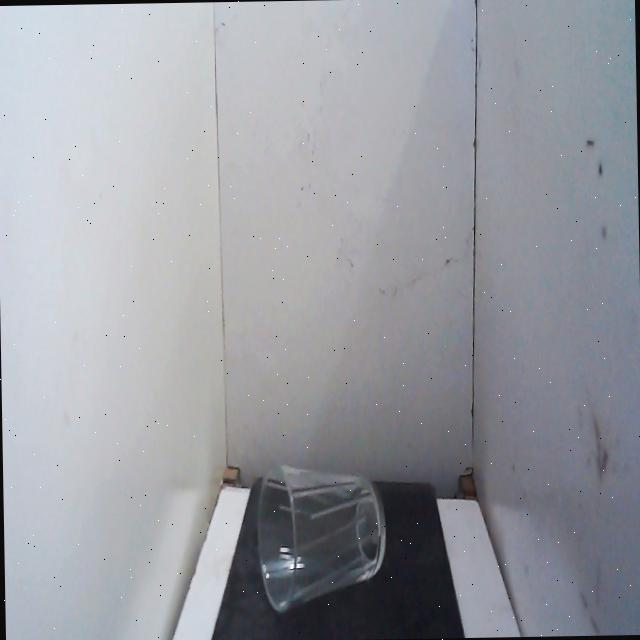vidro: (248, 454, 392, 620)
